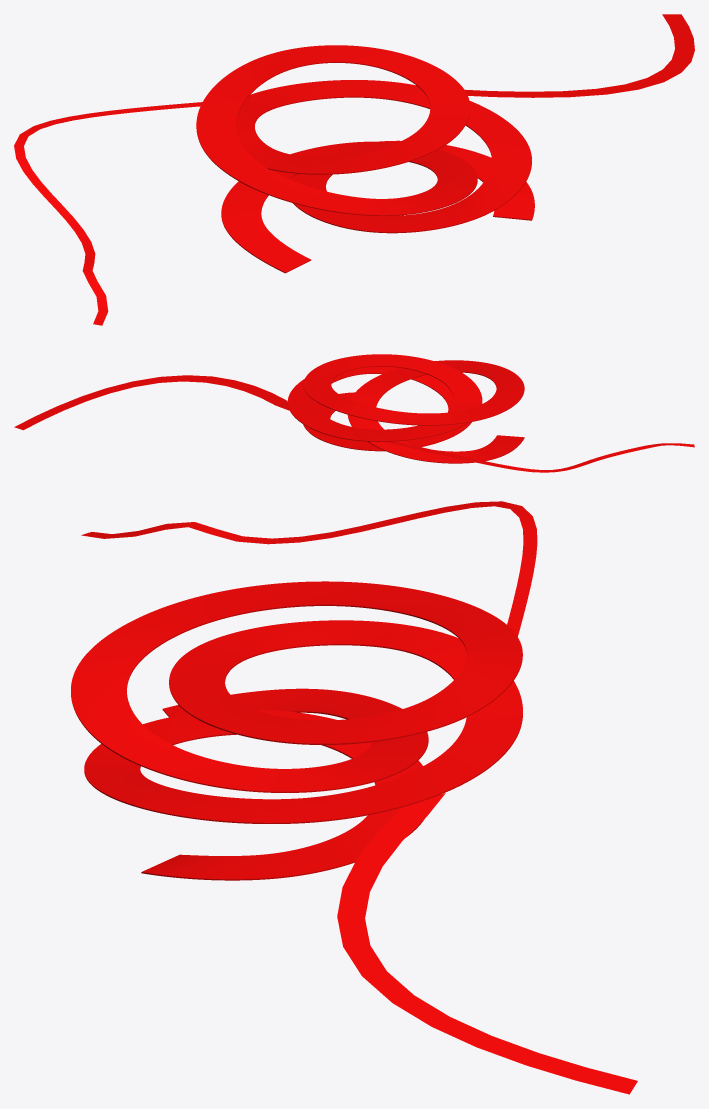
Rendered from walkingloop.fbx.
3 views of the same model, one above another, from view 1: azimuth 30°, elevation 25°; view 2: azimuth 150°, elevation 25°; view 3: azimuth 270°, elevation 25° (orthographic). The views are drawn at different scales.
Visible parts, largest first — view 1: PATHWAY; view 2: PATHWAY; view 3: PATHWAY.
Part boxes in pixels (x1=…): PATHWAY: x1=14, y1=14, x2=694, y2=325; PATHWAY: x1=14, y1=354, x2=694, y2=472; PATHWAY: x1=71, y1=501, x2=637, y2=1094.
Bounding box in the file's own units: 180 × 81 × 21.63.
